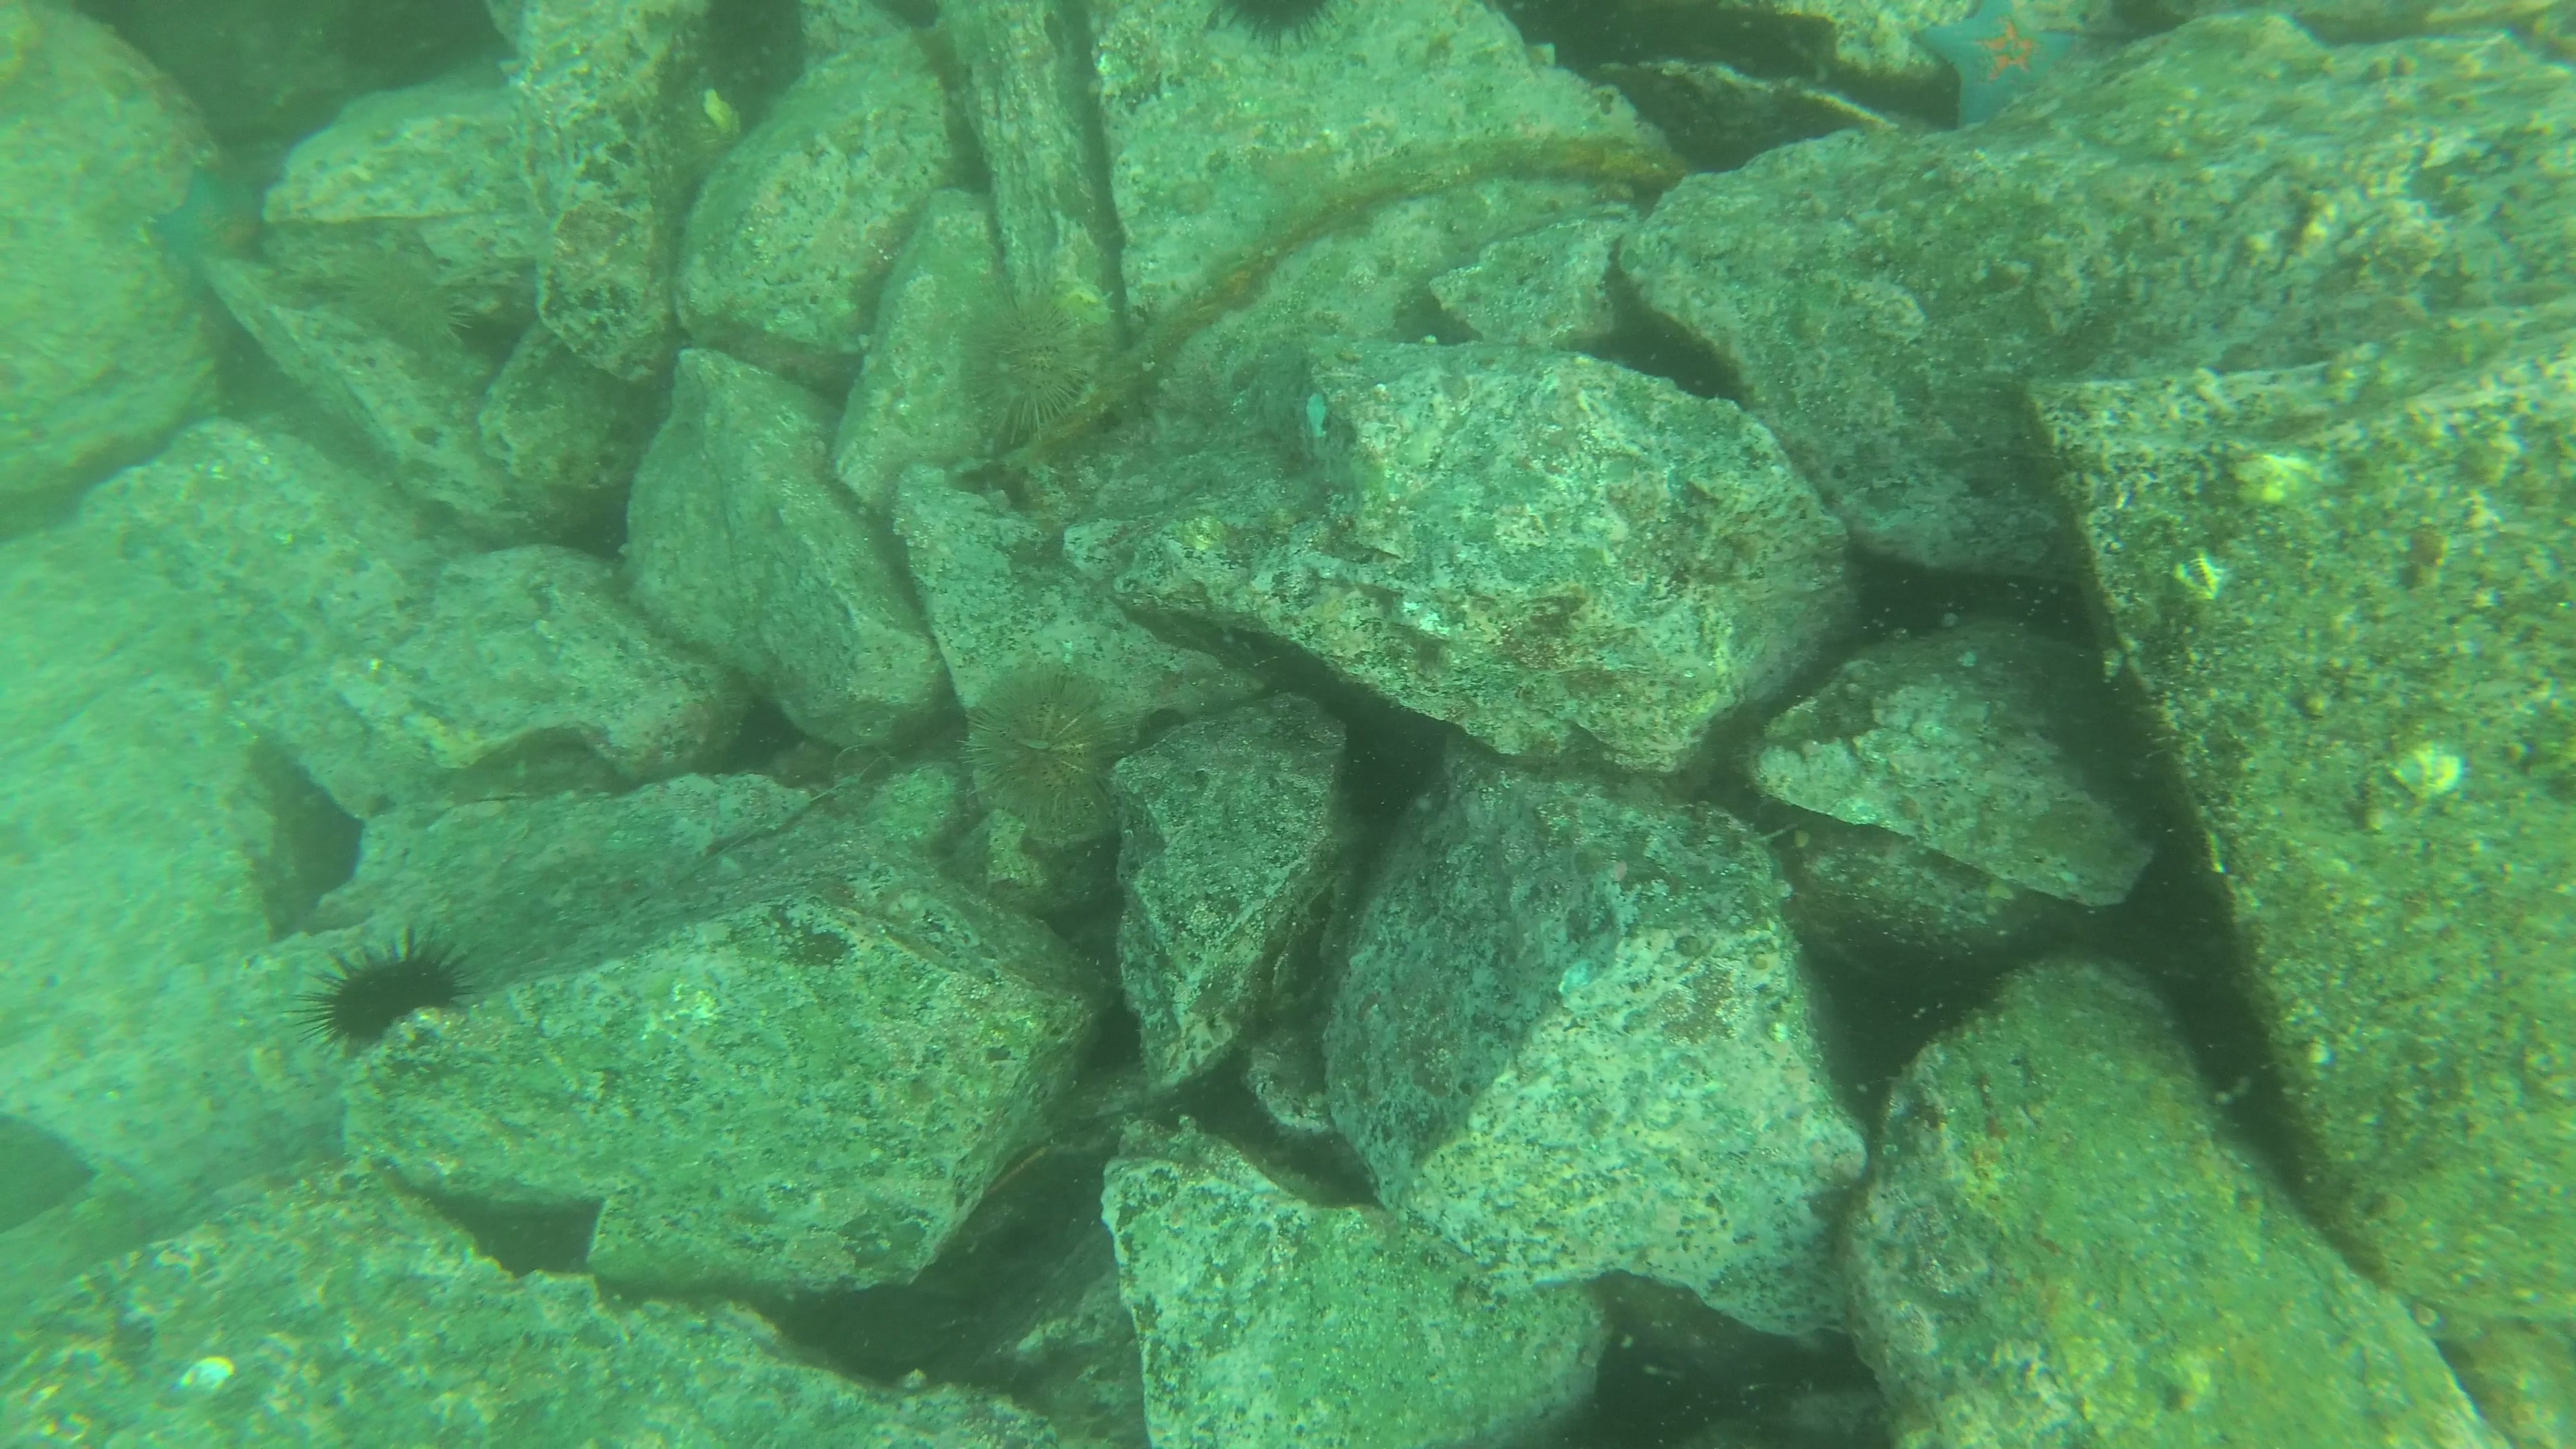echinus: (966, 280, 1106, 441), (970, 678, 1108, 819), (313, 947, 478, 1053), (338, 251, 490, 359)
starfish: (1913, 2, 2084, 129), (145, 166, 262, 269)
